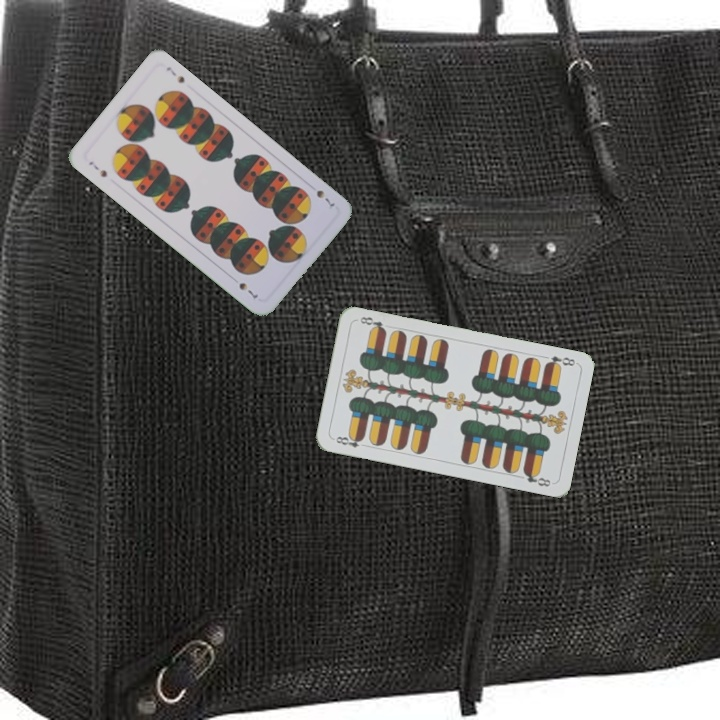E8: (541, 352, 578, 371), (330, 431, 366, 450)
S7: (312, 186, 337, 210), (84, 157, 109, 180)
